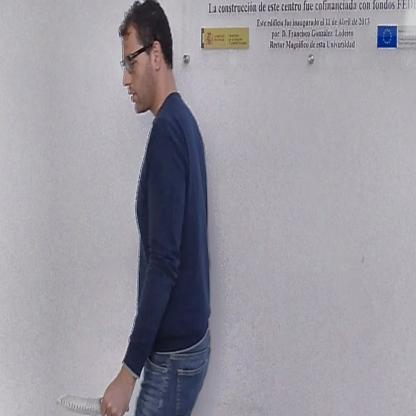knife: (52, 387, 132, 415)
